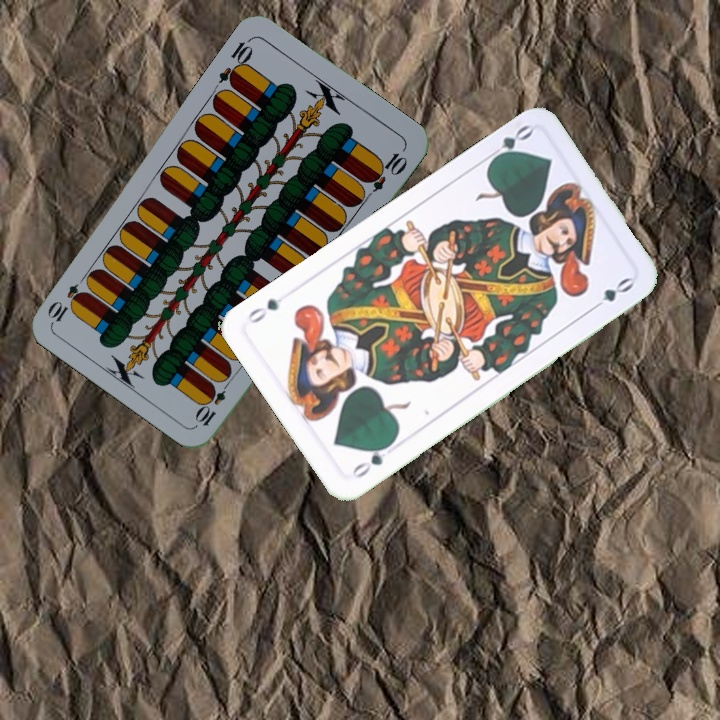E10: (192, 374, 234, 429), (215, 34, 256, 90)
GO: (481, 120, 536, 166), (348, 438, 396, 481)
